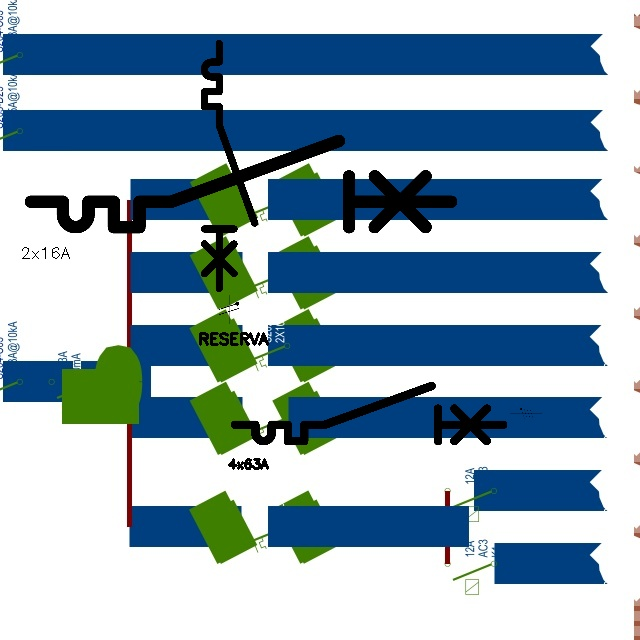interruptor_termomagnetico: (20, 130, 462, 238), (228, 379, 510, 448), (198, 37, 261, 295)
